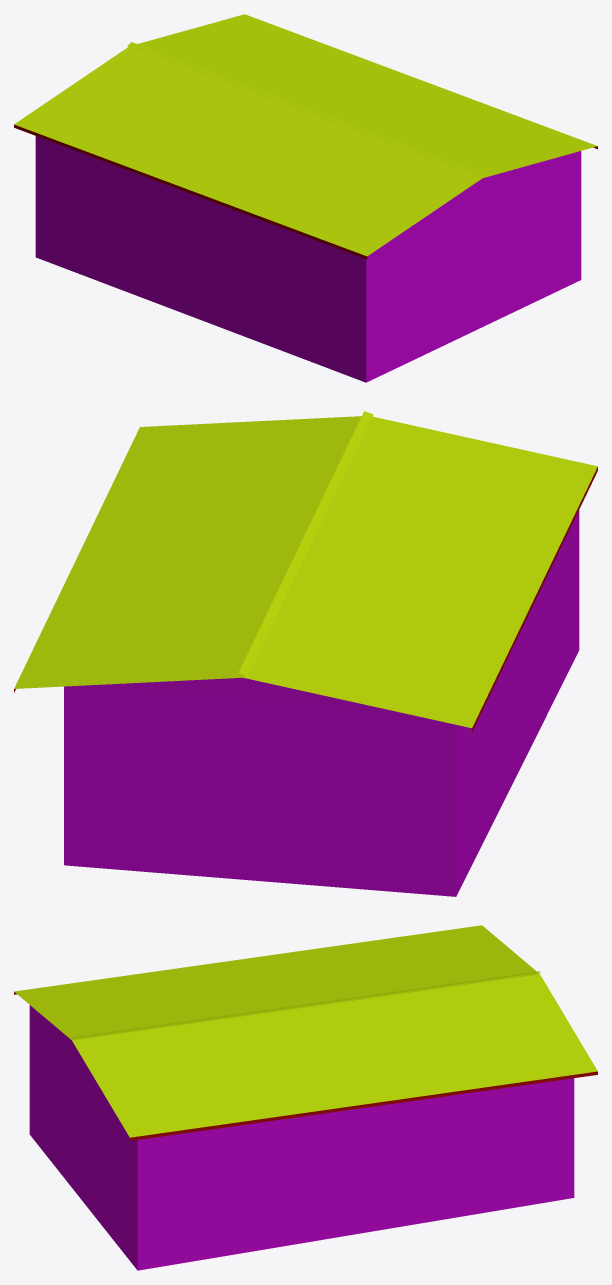
The model's file is sjs_100.glb.
3 views of the same model, one above another, from view 1: azimuth 30°, elevation 25°; view 2: azimuth 150°, elevation 25°; view 3: azimuth 270°, elevation 25° (orthographic). The views are drawn at different scales.
Visible parts, largest first — view 1: sjs_100; view 2: sjs_100; view 3: sjs_100.
Part boxes in pixels (x1,y1,x2,y2): sjs_100: (14, 14, 597, 382); sjs_100: (14, 411, 597, 896); sjs_100: (14, 925, 597, 1270).
Bounding box in the file's own units: 16.22 × 5.95 × 18.84.
